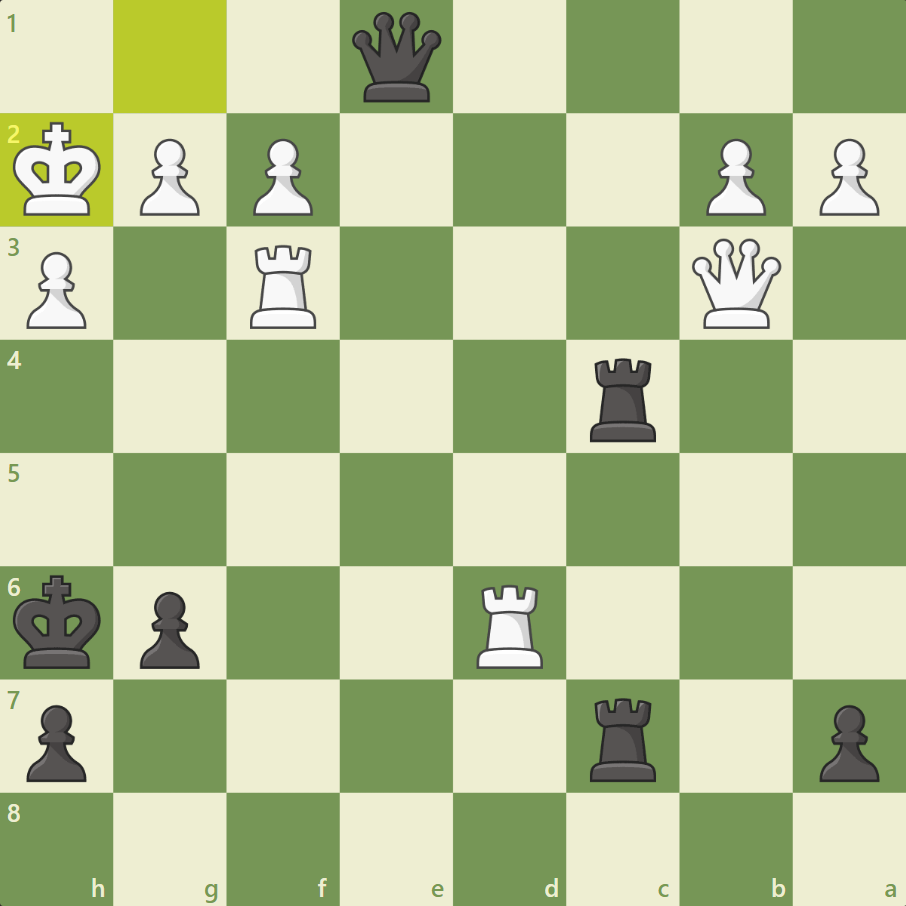K: (10, 118, 108, 219)
P: (134, 135, 203, 222), (815, 133, 883, 220), (251, 135, 317, 223), (26, 248, 91, 334), (705, 134, 769, 221)
Q: (687, 233, 785, 333)
R: (472, 583, 549, 672), (249, 239, 319, 333)
k: (8, 573, 105, 674)
p: (21, 703, 90, 785), (817, 703, 884, 786), (135, 590, 202, 673)
q: (347, 8, 443, 105)
r: (584, 694, 662, 786), (587, 354, 659, 446)
